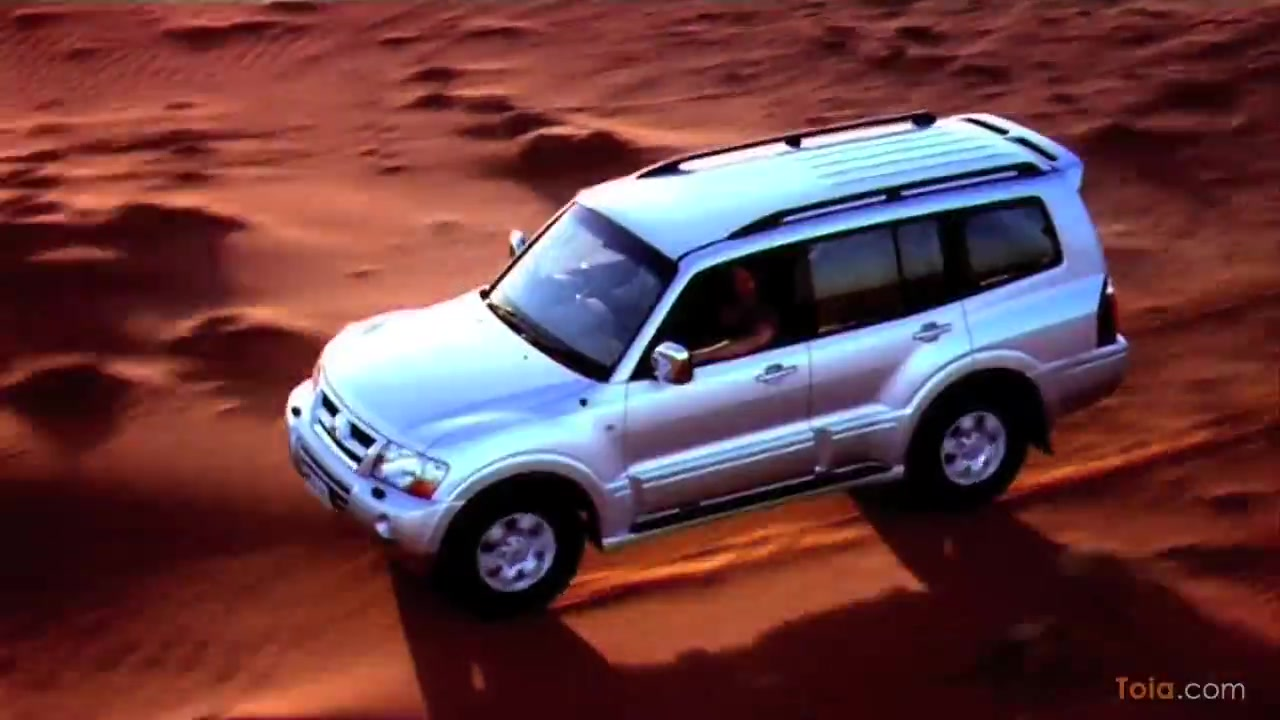car: (280, 105, 1136, 620)
